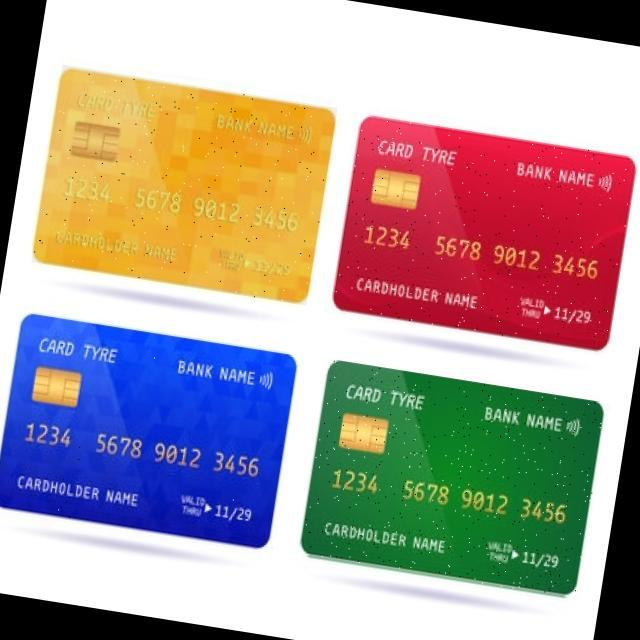payment_card: (299, 358, 604, 597), (35, 64, 335, 305), (332, 113, 636, 350), (0, 312, 297, 548)
